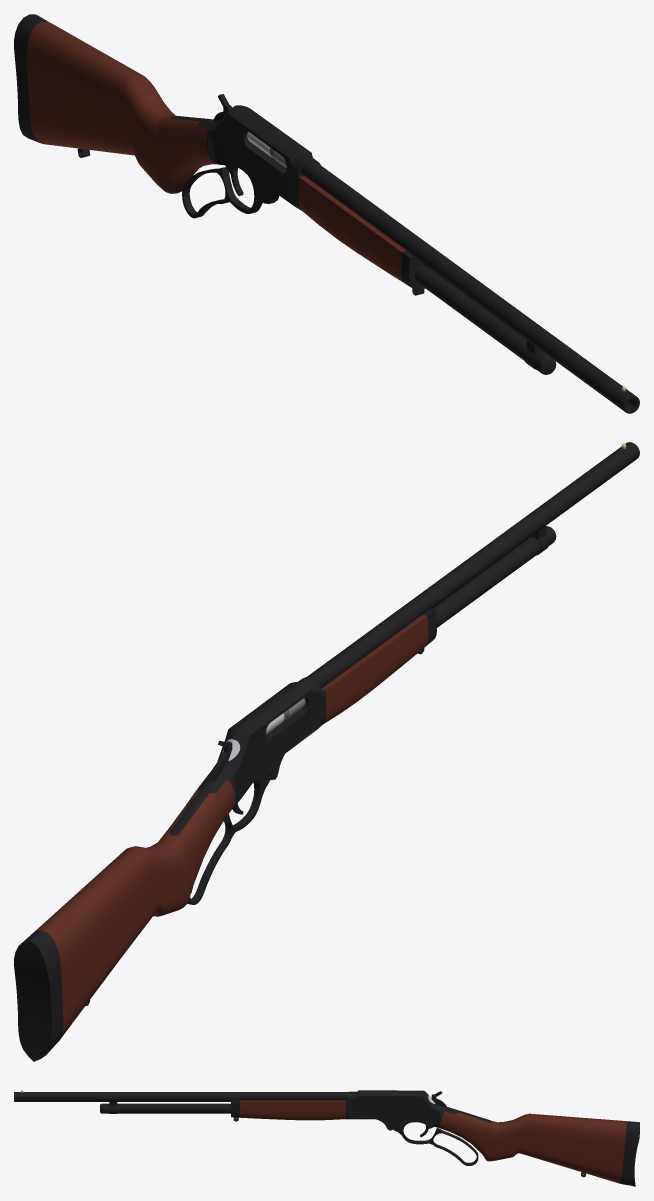
Rendered from Henry410_Test.glb.
The picture shows the model from 3 angles, top to bottom: view 1: azimuth 30°, elevation 25°; view 2: azimuth 150°, elevation 25°; view 3: azimuth 270°, elevation 25°; orthographic projection. The views are drawn at different scales.
Visible parts, largest first — view 1: Stock, Barrel, Receiver, Forearm, MagTube, Lever; view 2: Stock, Barrel, Receiver, Forearm, MagTube, Lever; view 3: Stock, Barrel, Receiver, Forearm, MagTube, Lever, Hinge.
Boxes of the visible parts, box(x1,y1,x2,y2) form: Stock: box(14, 14, 216, 193); Barrel: box(301, 160, 639, 413); Receiver: box(169, 105, 320, 210); Forearm: box(298, 176, 425, 289); MagTube: box(414, 265, 556, 374); Lever: box(182, 166, 276, 218); Stock: box(14, 779, 235, 1061); Barrel: box(307, 442, 639, 688); Receiver: box(169, 677, 326, 835); Forearm: box(321, 608, 436, 723); MagTube: box(433, 526, 556, 627); Lever: box(187, 769, 272, 904); Stock: box(438, 1111, 639, 1186); Barrel: box(14, 1092, 348, 1101); Receiver: box(346, 1090, 491, 1127); Forearm: box(231, 1100, 345, 1120); MagTube: box(100, 1103, 230, 1113); Lever: box(392, 1120, 478, 1165); Hinge: box(376, 1119, 408, 1130).
Bounding box in the file's own units: 0.1442 × 0.743 × 4.36.
